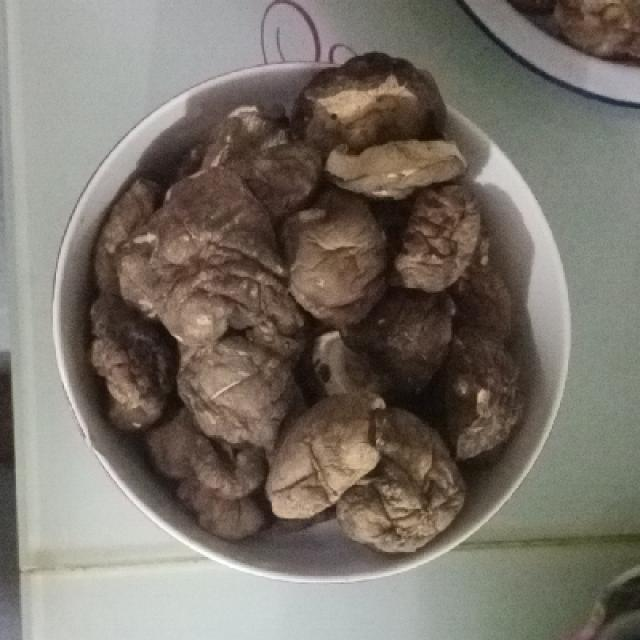Lentinus edodes: (84, 54, 518, 551)
